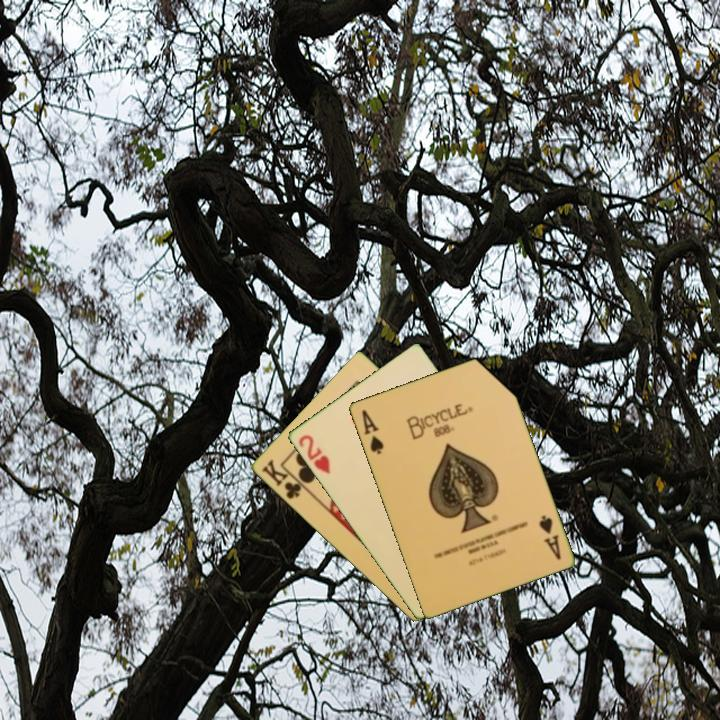2h: (294, 431, 333, 477)
As: (535, 511, 563, 563), (358, 406, 386, 457)
Kc: (258, 456, 310, 502)
